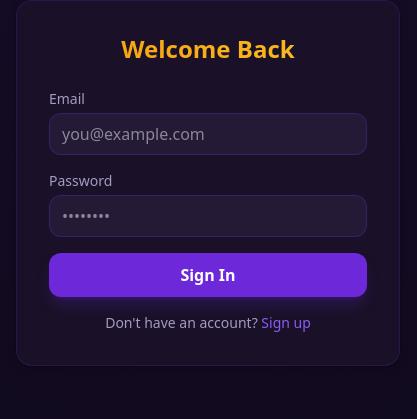
it: AuthForm › error handling › shows error message on login failure
Type "test@example.com" into the field with placeholder "you@example.com". click: (208, 134)
box: [49, 113, 367, 155]
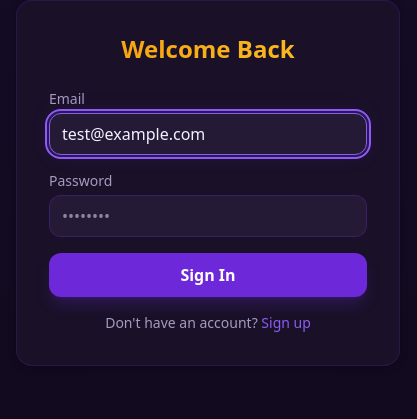
Type "wrong" into the password field with placeholder "••••••••". click: (208, 216)
box: [49, 195, 367, 237]
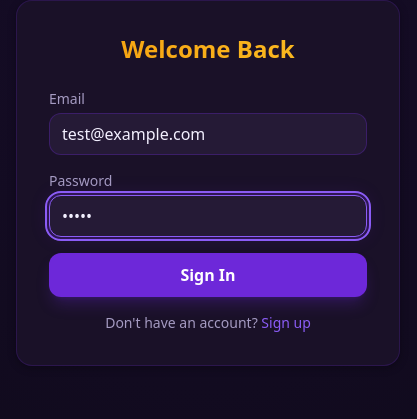
Click the button "Sign In". click: (208, 275)
box: [49, 253, 367, 297]
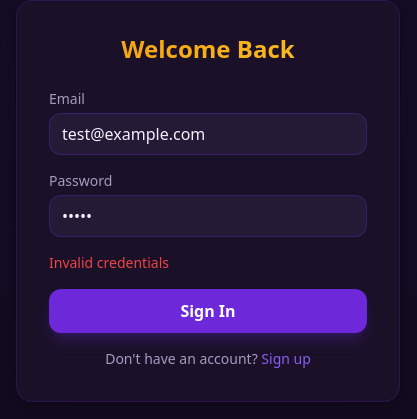
Result: the text "Invalid credentials" is shown at [49, 253, 169, 272]
